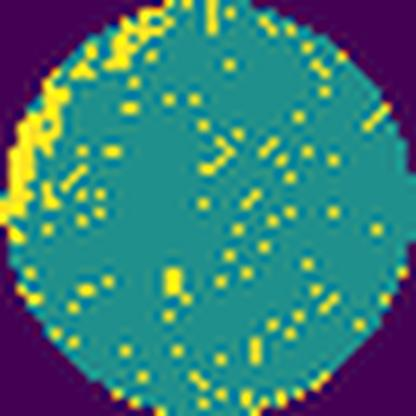Edge-Loc: (0, 62, 74, 248), (102, 0, 182, 71)
